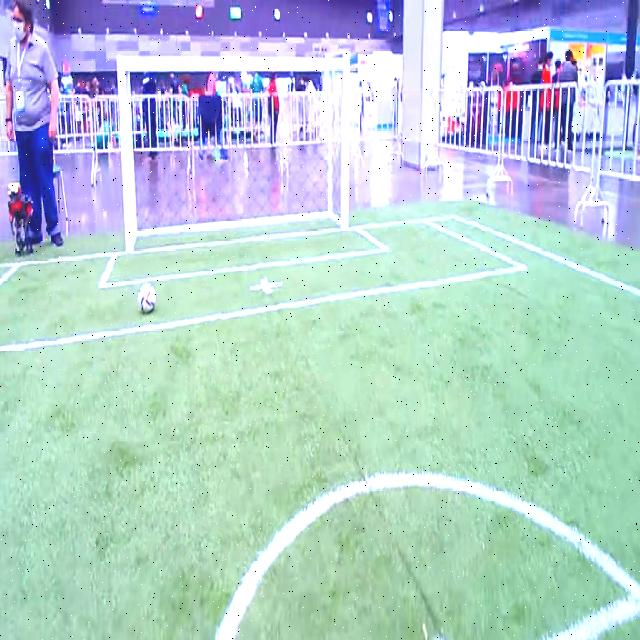ball: (138, 282, 156, 313)
